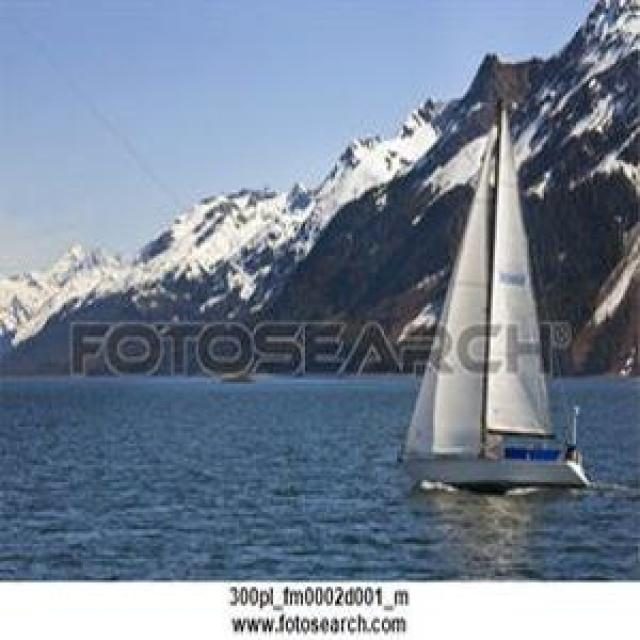sailboat: (399, 95, 591, 494)
